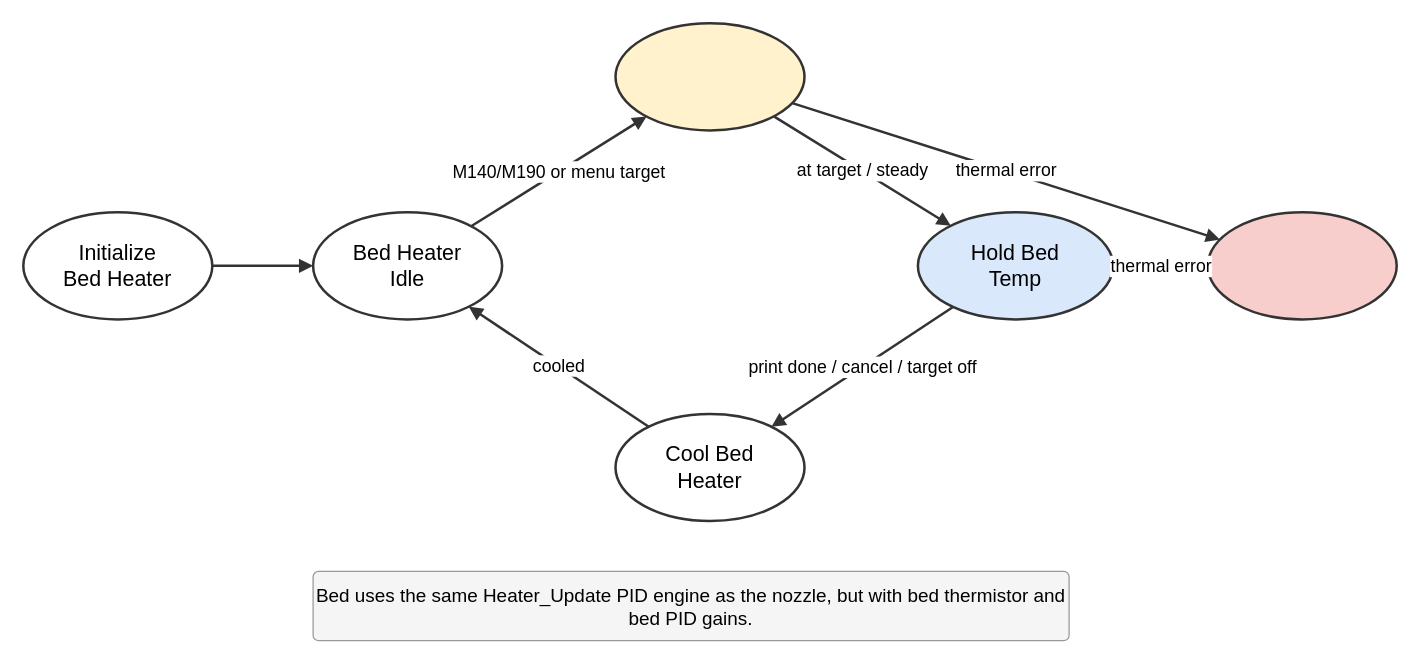
The diagram is 1419 pixels wide and 663 high, and some of its shapes have lost their labels. The centre of each missing label's shape, as x and y in pixels:
"Bed Fault" goes at point (1301, 265).
"Preheat Bed" goes at point (709, 76).
